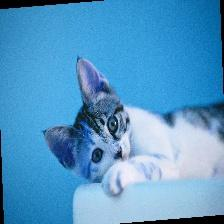kedo: (48, 58, 224, 194)
